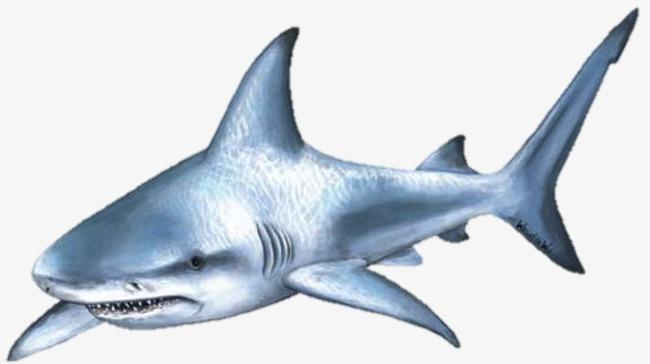fish: (7, 7, 644, 362)
